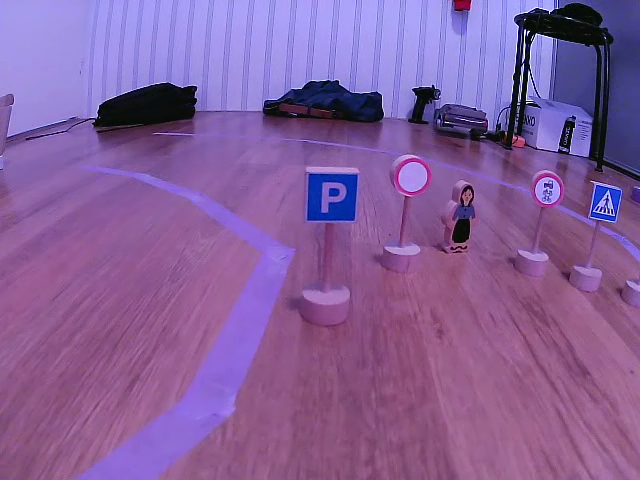fietspad: (531, 169, 564, 210)
mens: (442, 177, 477, 254)
parkeerbord: (306, 168, 357, 223)
wegdicht: (390, 155, 430, 196)
zebrapad: (587, 179, 623, 225)
